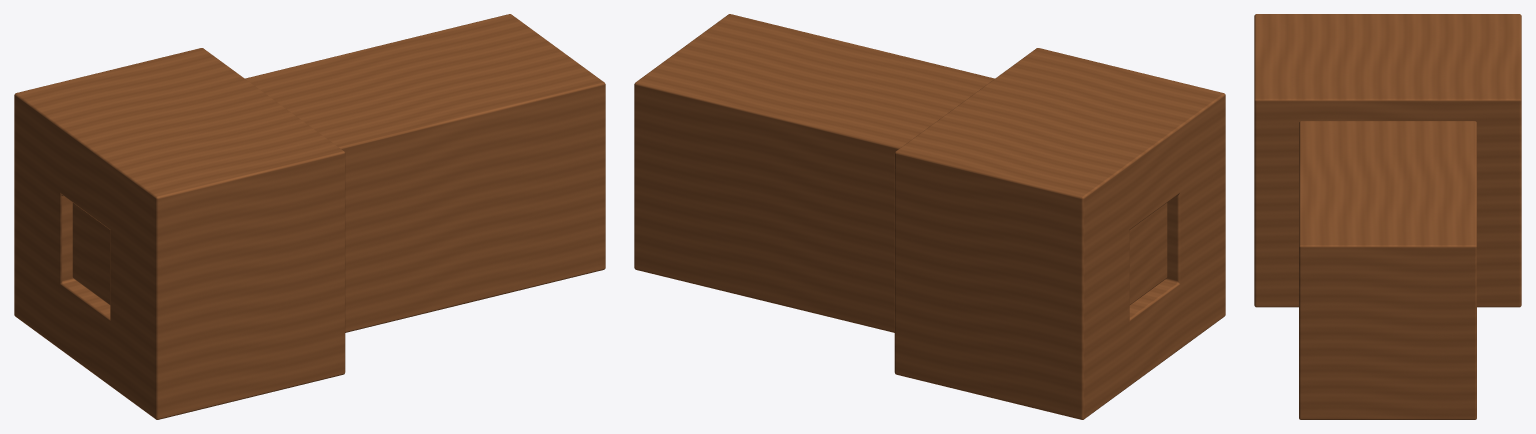
3 views of the same model, side by side, from view 1: azimuth 30°, elevation 25°; view 2: azimuth 150°, elevation 25°; view 3: azimuth 270°, elevation 25° (orthographic). The views are drawn at different scales.
Visible parts, largest first — view 1: g1_mortise_01, g1_tenon_02; view 2: g1_mortise_01, g1_tenon_02; view 3: g1_tenon_02, g1_mortise_01.
Part boxes in pixels (box(x1,y1,x2,y2)): g1_mortise_01: box(14, 48, 345, 419); g1_tenon_02: box(72, 14, 605, 332); g1_mortise_01: box(894, 48, 1225, 419); g1_tenon_02: box(634, 14, 1167, 332); g1_tenon_02: box(1299, 121, 1476, 419); g1_mortise_01: box(1254, 14, 1521, 307).
Size of the model in its own units: 3.15 by 1.42 by 1.65.
1 material, 1 textured.
